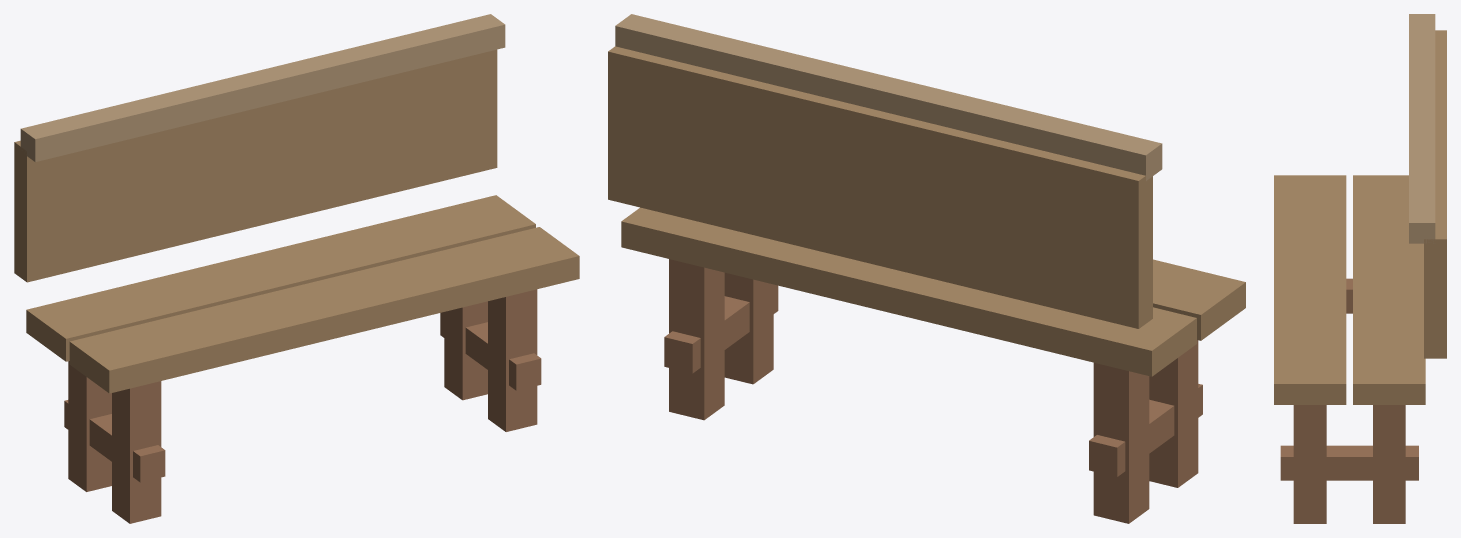
Rendered from bench.glb.
The picture shows the model from 3 angles, left to right: view 1: azimuth 30°, elevation 25°; view 2: azimuth 150°, elevation 25°; view 3: azimuth 270°, elevation 25°; orthographic projection. The views are drawn at different scales.
Parts seen in each view (by area): view 1: back, seat_0, seat_1, back_rail, leg_0_0, leg_0_1, leg_1_0, leg_1_1, stretcher_0, stretcher_1; view 2: back, seat_1, back_rail, leg_1_0, leg_1_1, leg_0_0, seat_0, leg_0_1, stretcher_1, stretcher_0; view 3: seat_0, seat_1, back_rail, back, leg_0_1, leg_1_1, stretcher_1, stretcher_0.
Boxes of the visible parts, left/top/right/bottom form: back: left=14, top=49, right=497, bottom=282; seat_0: left=69, top=227, right=579, bottom=393; seat_1: left=26, top=195, right=535, bottom=361; back_rail: left=20, top=14, right=505, bottom=162; leg_0_0: left=112, top=381, right=161, bottom=523; leg_0_1: left=488, top=289, right=537, bottom=431; leg_1_0: left=68, top=361, right=111, bottom=491; leg_1_1: left=444, top=301, right=487, bottom=400; stretcher_0: left=64, top=400, right=165, bottom=482; stretcher_1: left=440, top=312, right=541, bottom=390; back: left=608, top=46, right=1152, bottom=328; seat_1: left=621, top=207, right=1196, bottom=376; back_rail: left=615, top=14, right=1162, bottom=180; leg_1_0: left=1093, top=362, right=1149, bottom=523; leg_1_1: left=669, top=259, right=724, bottom=420; leg_0_0: left=1149, top=340, right=1198, bottom=487; seat_0: left=1153, top=259, right=1245, bottom=340; leg_0_1: left=724, top=272, right=773, bottom=384; stretcher_1: left=664, top=284, right=778, bottom=373; stretcher_0: left=1089, top=384, right=1202, bottom=476; seat_0: left=1274, top=175, right=1346, bottom=404; seat_1: left=1353, top=175, right=1425, bottom=404; back_rail: left=1409, top=14, right=1435, bottom=243; back: left=1424, top=30, right=1446, bottom=358; leg_0_1: left=1293, top=405, right=1326, bottom=523; leg_1_1: left=1373, top=405, right=1405, bottom=523; stretcher_1: left=1280, top=445, right=1418, bottom=480; stretcher_0: left=1346, top=278, right=1352, bottom=313.
Size of the model in its own units: 1.5 by 1.05 by 0.525.
